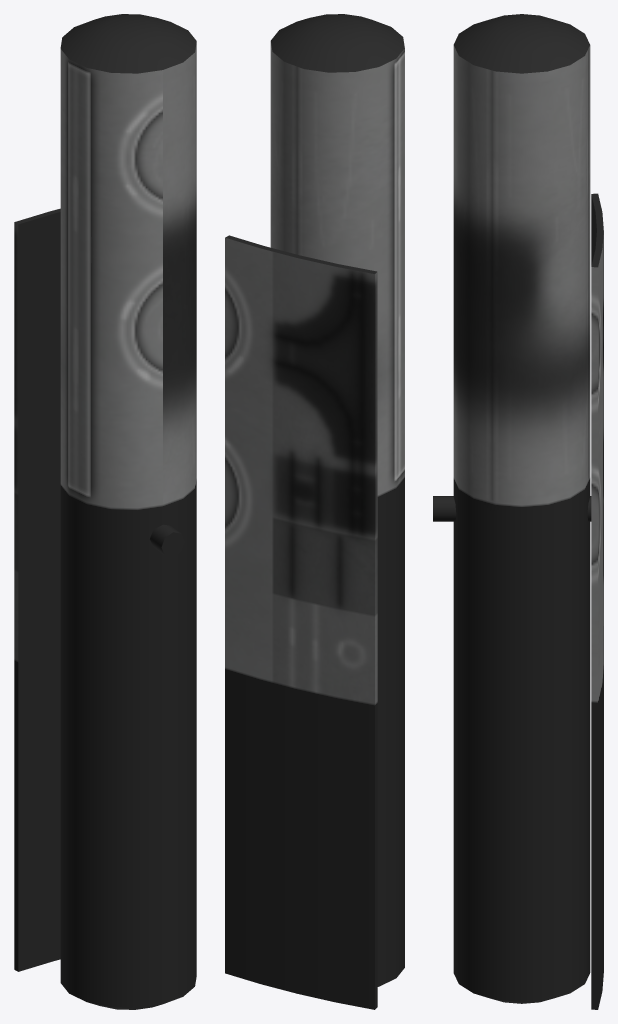
Rendered from aquila_radiator_fuel_tank_single_srf_2.obj.
3 renders of one model, left to right at view 1: azimuth 30°, elevation 25°; view 2: azimuth 150°, elevation 25°; view 3: azimuth 270°, elevation 25°, orthographic.
Visible parts, largest first — view 1: aquila_radiator_tank_single_srf_2; view 2: aquila_radiator_tank_single_srf_2; view 3: aquila_radiator_tank_single_srf_2.
Part boxes in pixels (<box>): aquila_radiator_tank_single_srf_2: <box>14,14,196,1009</box>; aquila_radiator_tank_single_srf_2: <box>225,14,404,1009</box>; aquila_radiator_tank_single_srf_2: <box>433,14,603,1009</box>.
Size of the model in its own units: 0.3198 by 1.95 by 0.3125.
